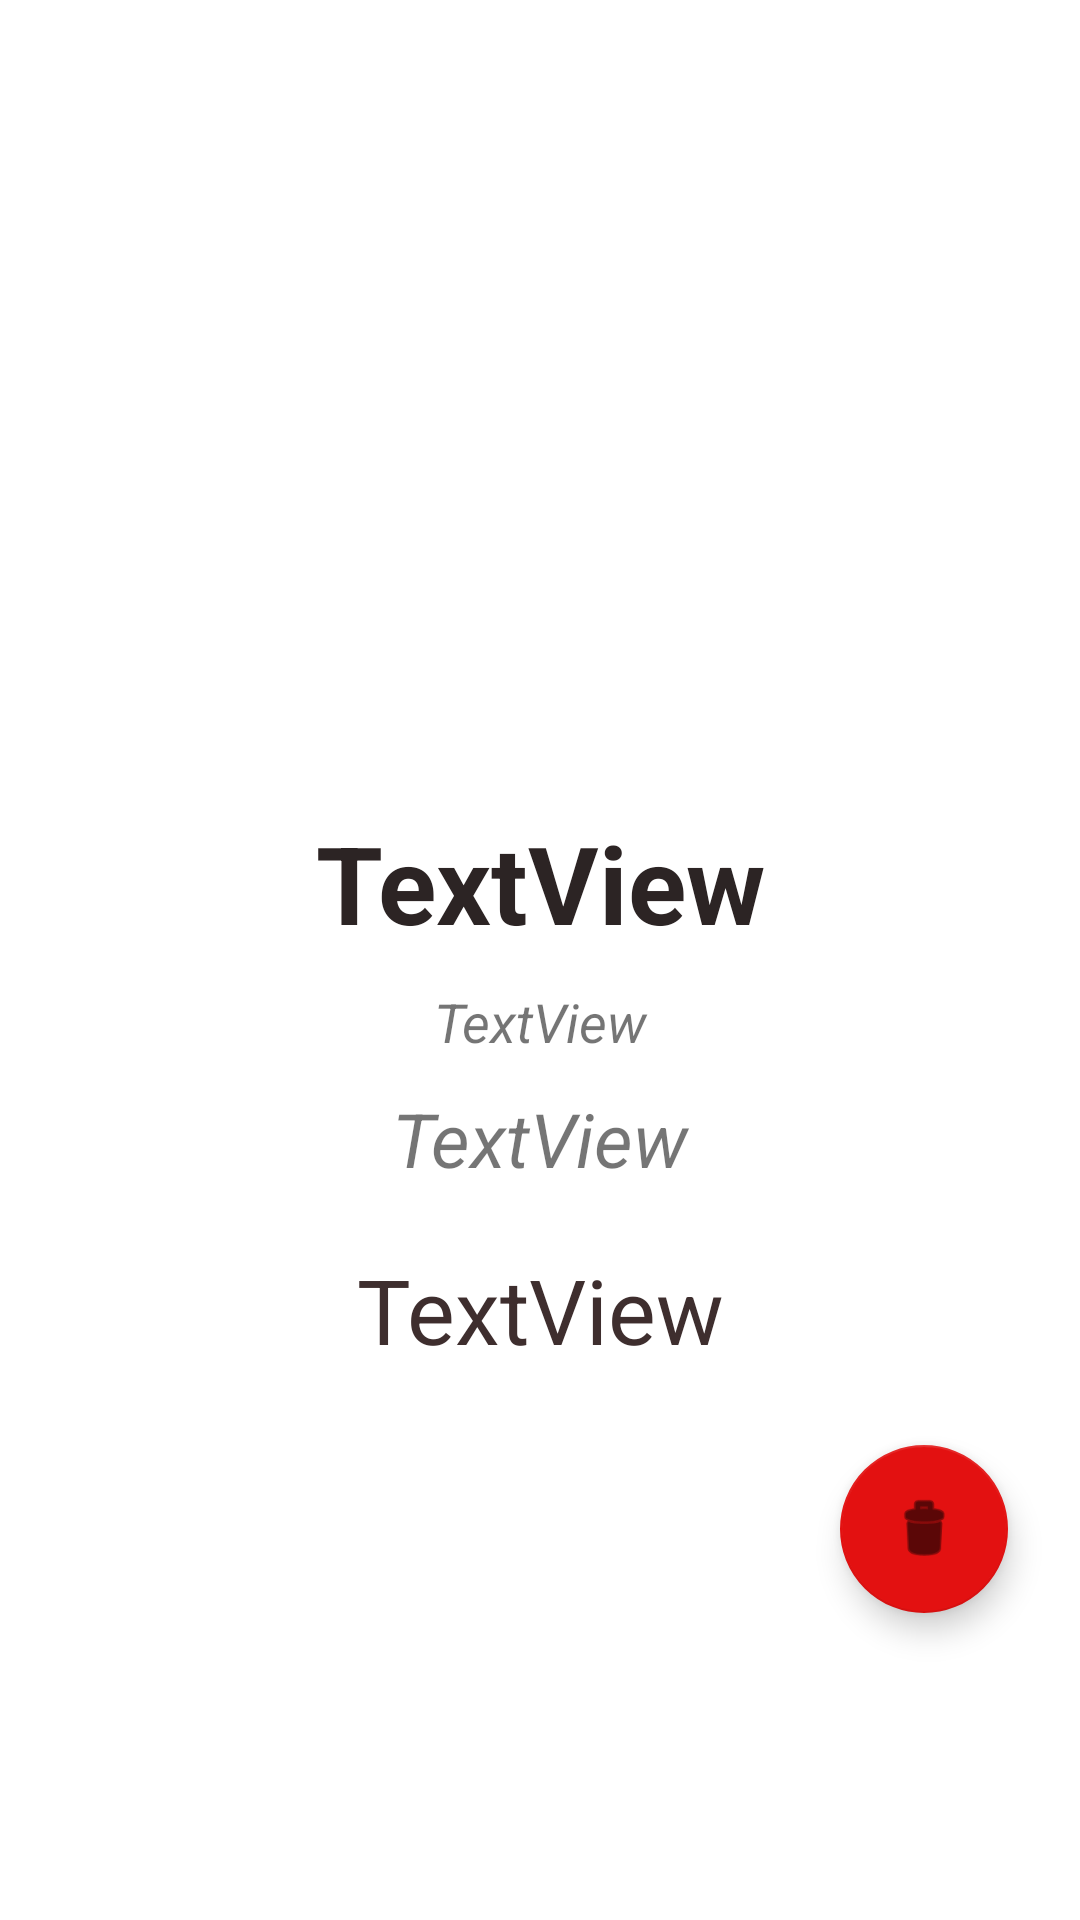

Where to tap for icons on this 1080px×1920px app screen, as point (x, y):
delete: point (924, 1529)
